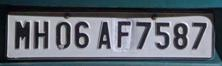0: (54, 21, 73, 50)
5: (154, 20, 172, 50)
6: (73, 20, 92, 49)
7: (134, 20, 153, 53), (191, 21, 209, 50)
8: (173, 22, 190, 49)
A: (95, 18, 114, 51)
F: (116, 19, 133, 51)
H: (33, 19, 53, 51)
M: (11, 18, 32, 51)
